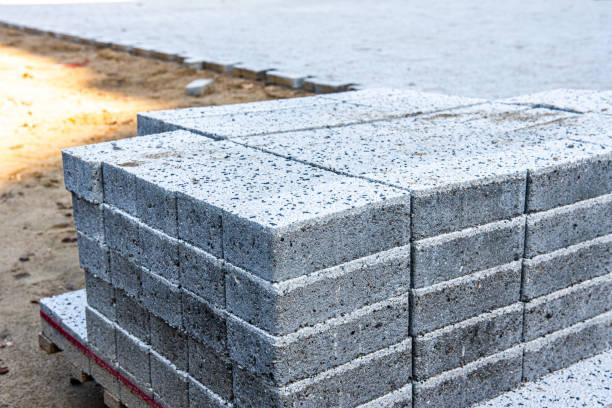Bricks: (222, 177, 408, 283), (224, 244, 409, 338), (225, 291, 409, 385), (176, 157, 331, 261), (135, 145, 288, 239), (372, 147, 530, 237), (231, 337, 412, 407), (102, 138, 244, 225), (61, 130, 215, 205), (504, 120, 611, 215), (415, 304, 524, 383), (413, 260, 523, 338), (415, 215, 525, 289), (416, 344, 524, 407), (449, 102, 585, 151), (524, 310, 611, 385), (523, 231, 611, 303), (523, 272, 611, 344), (525, 192, 611, 260), (401, 99, 535, 139), (461, 371, 603, 407), (329, 139, 451, 180), (137, 101, 254, 137), (290, 133, 407, 168), (181, 286, 229, 357), (178, 237, 224, 309), (245, 127, 367, 154), (142, 267, 188, 334), (188, 335, 232, 405), (40, 287, 87, 350), (139, 220, 181, 285), (565, 348, 611, 407), (163, 109, 276, 133), (277, 106, 405, 127), (193, 115, 315, 137), (386, 91, 490, 116), (149, 309, 188, 373), (113, 282, 149, 347), (102, 204, 141, 264), (149, 345, 186, 407), (108, 243, 145, 305), (117, 325, 152, 389), (227, 124, 324, 145), (505, 86, 603, 106), (348, 90, 438, 110), (85, 309, 118, 362), (62, 308, 88, 374), (89, 345, 120, 399), (78, 231, 112, 280), (84, 272, 116, 321), (71, 194, 104, 241), (238, 96, 344, 110), (565, 90, 611, 122), (255, 99, 359, 113), (350, 384, 413, 407), (119, 365, 153, 407), (188, 374, 231, 407), (320, 86, 407, 101), (594, 105, 611, 150), (152, 390, 190, 407)
